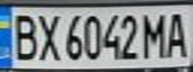0: (81, 11, 103, 61)
2: (118, 10, 142, 61)
4: (103, 11, 124, 61)
6: (60, 10, 84, 62)
A: (163, 8, 190, 60)
B: (6, 10, 42, 62)
M: (139, 10, 169, 60)
X: (33, 10, 63, 62)
